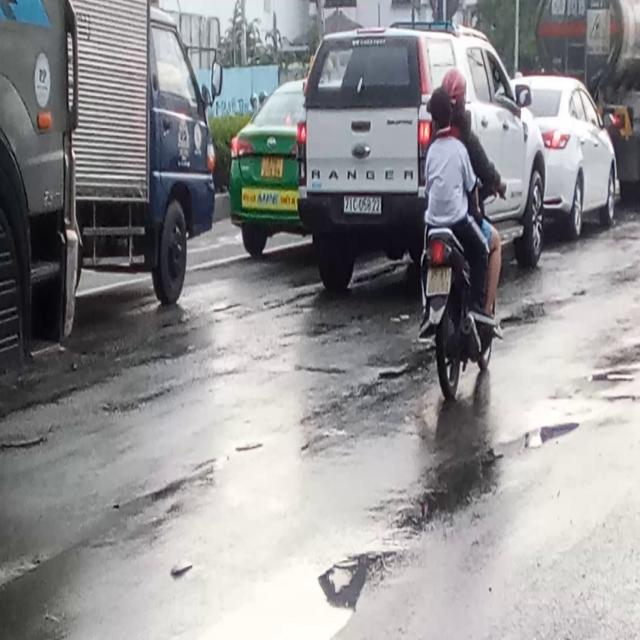bien_trang: (340, 192, 384, 215)
